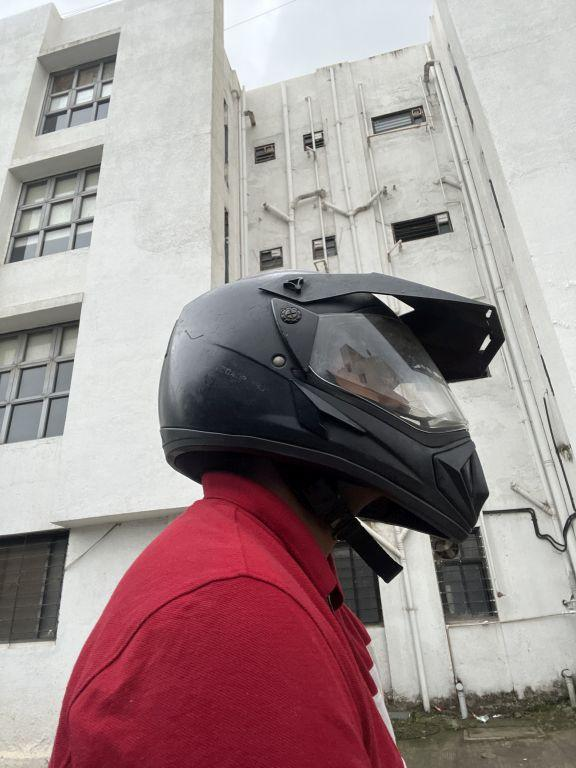helmet: (149, 249, 518, 563)
